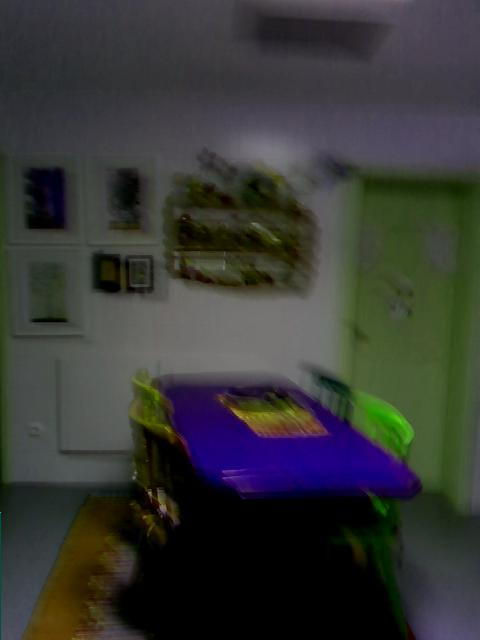closed_door: (337, 165, 479, 518)
